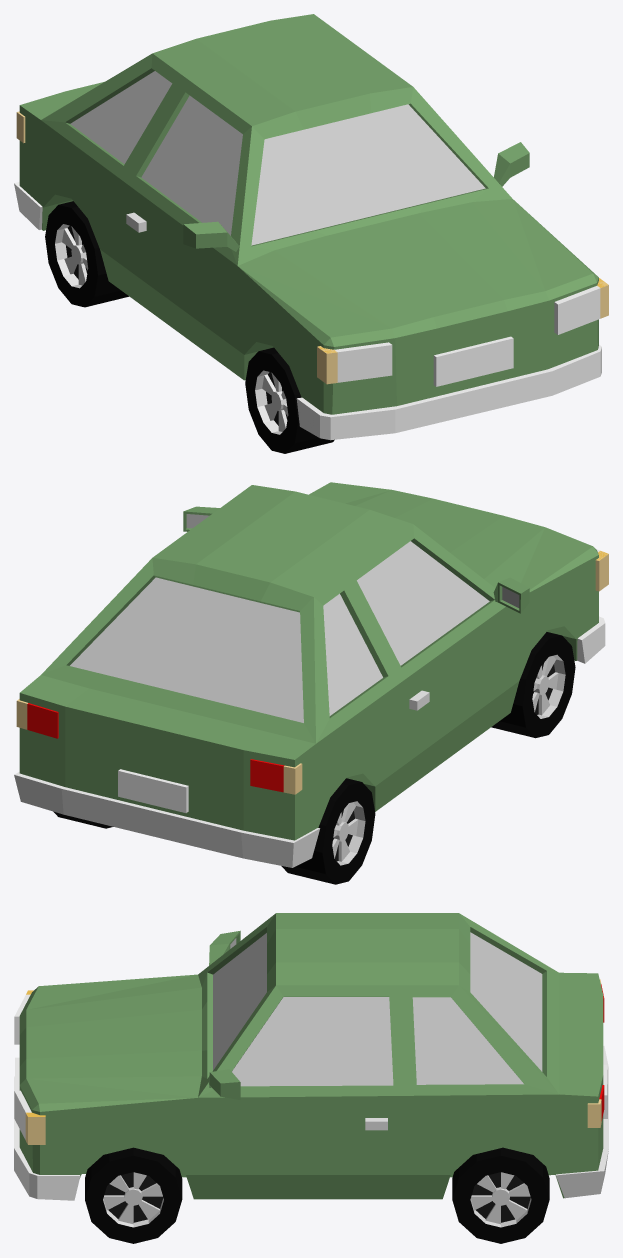
File: Car-12-A.fbx
3 renders of one model, top to bottom at view 1: azimuth 30°, elevation 25°; view 2: azimuth 150°, elevation 25°; view 3: azimuth 270°, elevation 25°, orthographic. The views are drawn at different scales.
Parts seen in each view (by area): view 1: Car-12, BR, FR, Head-Light, Light-Right; view 2: Car-12, BR, FR, Break-Light, Light-Right; view 3: Car-12, FL, BL, Light-Left, Head-Light.
Part boxes in pixels (x1,y1,x2,y2): Car-12: (14,14,607,440); BR: (45,201,128,307); FR: (245,347,334,453); Head-Light: (334,286,600,382); Light-Right: (16,111,337,384); Car-12: (14,482,608,867); BR: (281,778,375,884); FR: (491,632,575,738); Break-Light: (27,703,284,792); Light-Right: (283,550,608,794); Car-12: (14,913,608,1200); FL: (85,1147,182,1243); BL: (452,1147,549,1243); Light-Left: (25,1099,601,1144); Head-Light: (14,994,31,1139).
Bounding box in the file's own units: 2.45 × 1.79 × 4.08.
